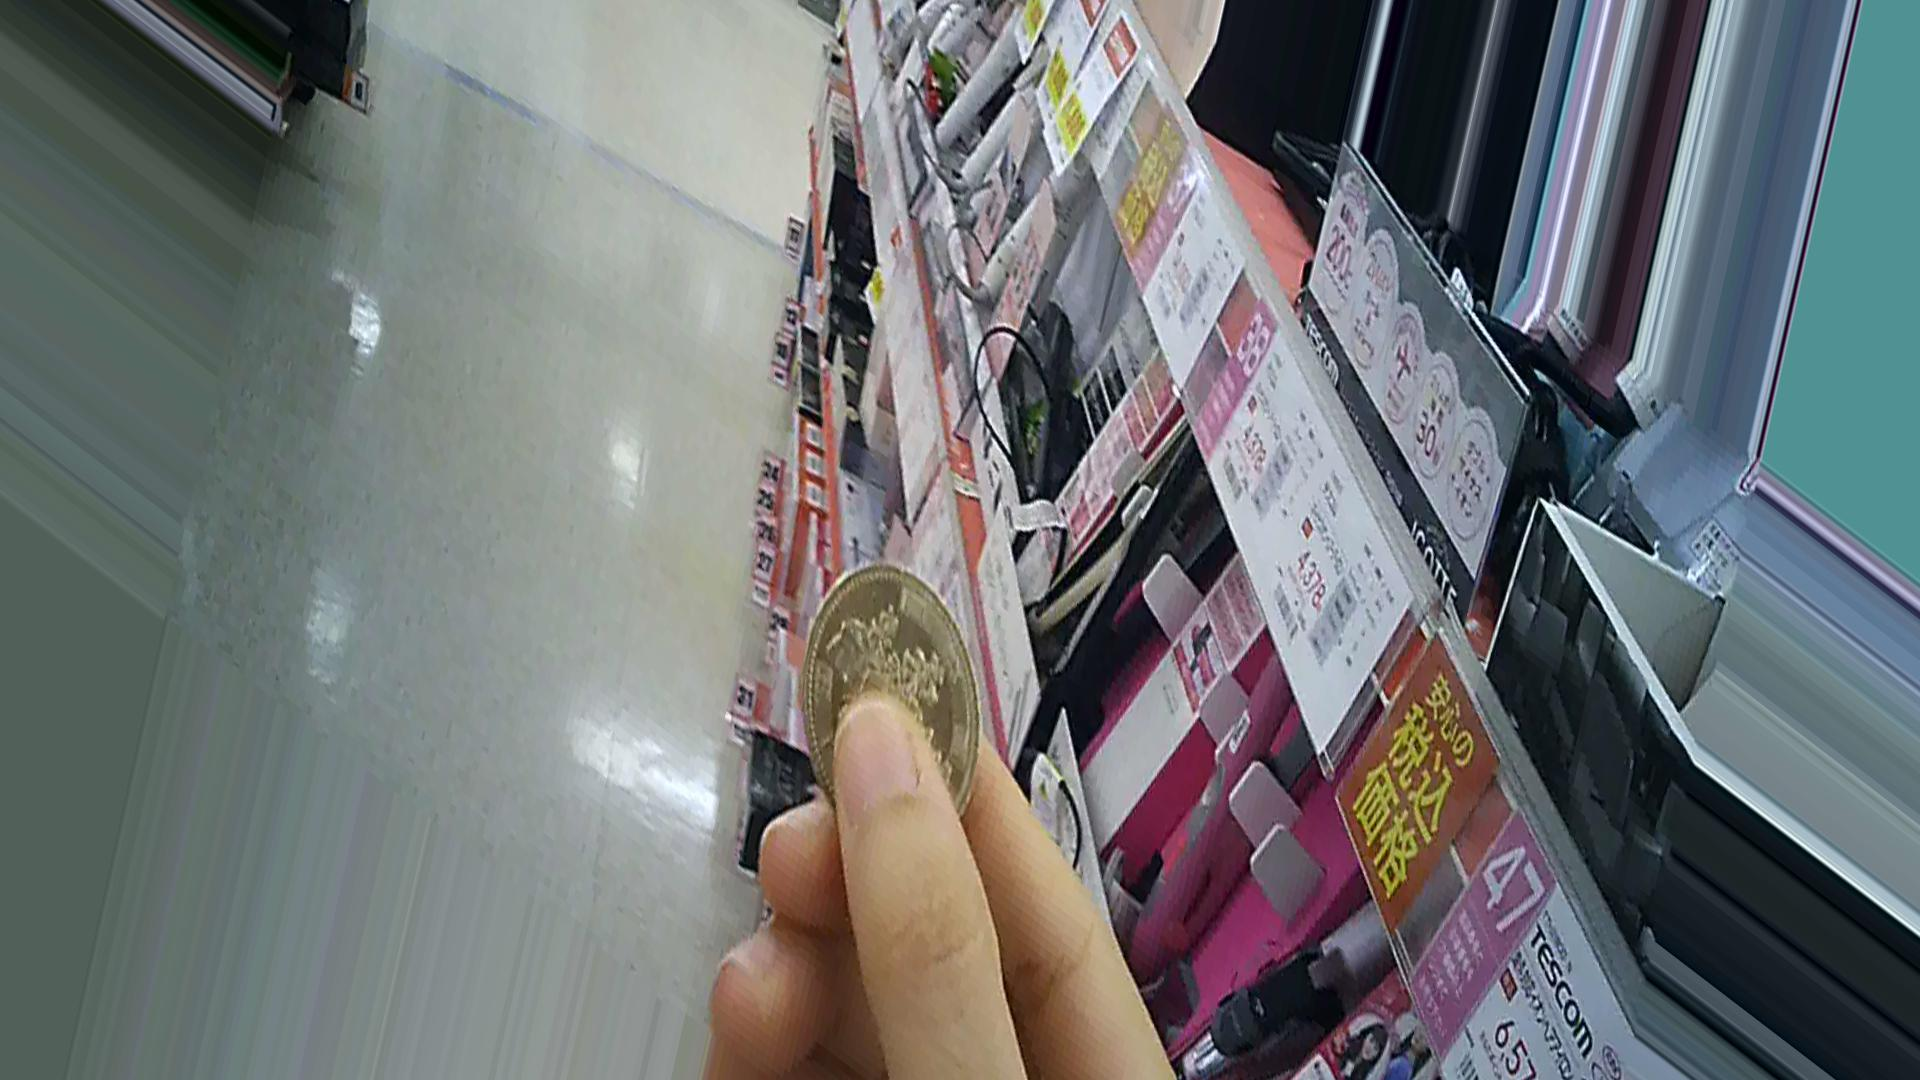500 Yen: (796, 564, 985, 827)
